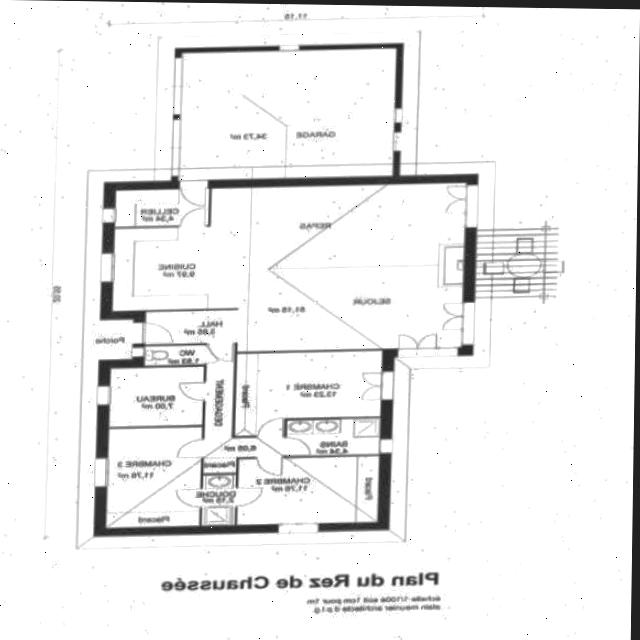room: (112, 187, 481, 365), (177, 51, 398, 191), (234, 352, 397, 440), (205, 345, 287, 477), (108, 427, 206, 531), (238, 458, 382, 527), (110, 368, 208, 429), (115, 190, 211, 230), (285, 421, 382, 459), (203, 476, 240, 529), (145, 347, 208, 368)
